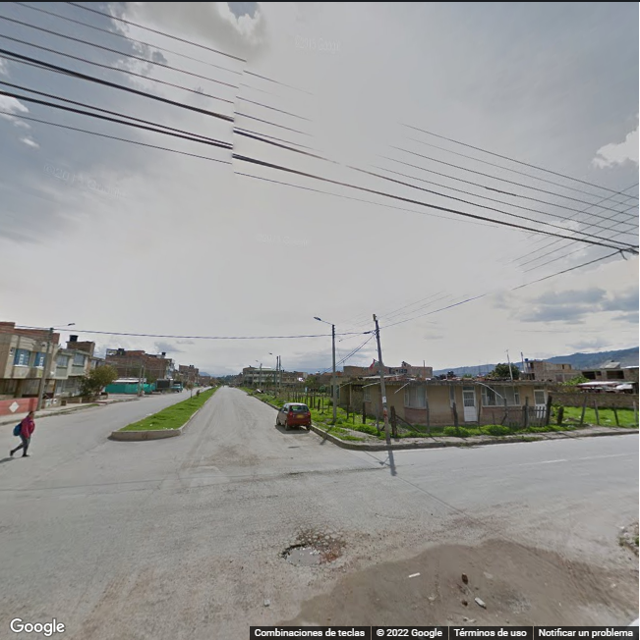D00: (63, 534, 113, 628), (115, 560, 147, 610)
D40: (275, 539, 347, 566)
